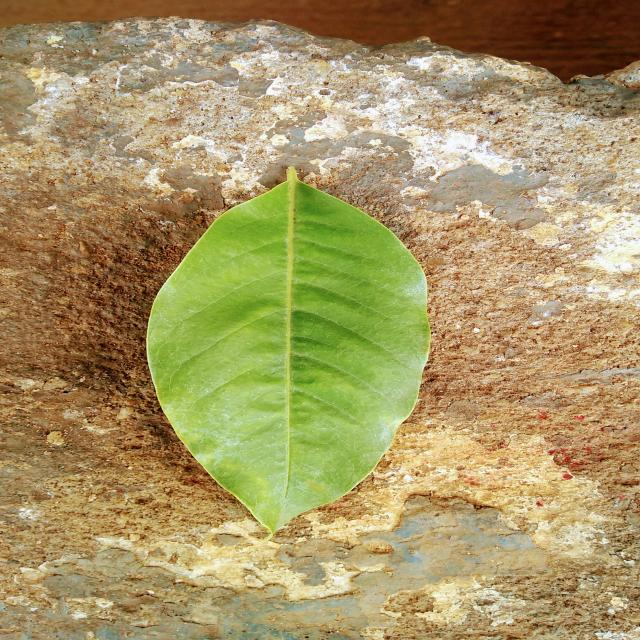sampige: (147, 169, 429, 532)
